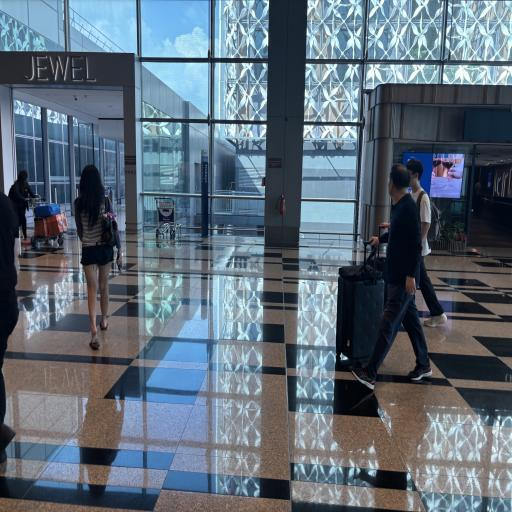person_with_luggage_left: (326, 176, 436, 392)
